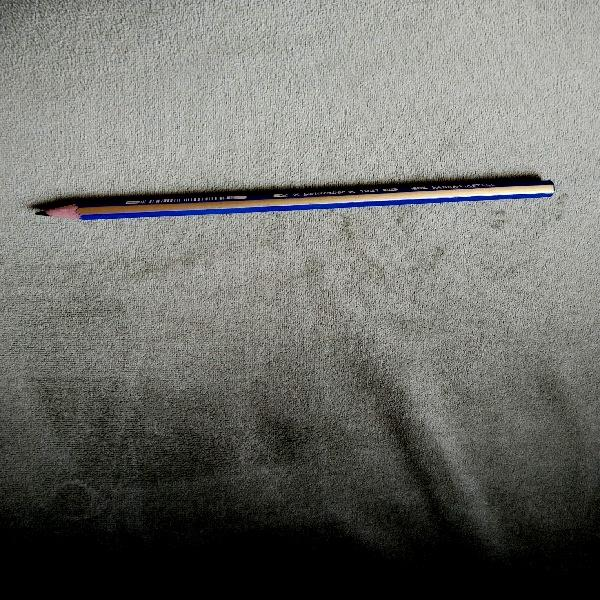pencil: (39, 170, 557, 224)
